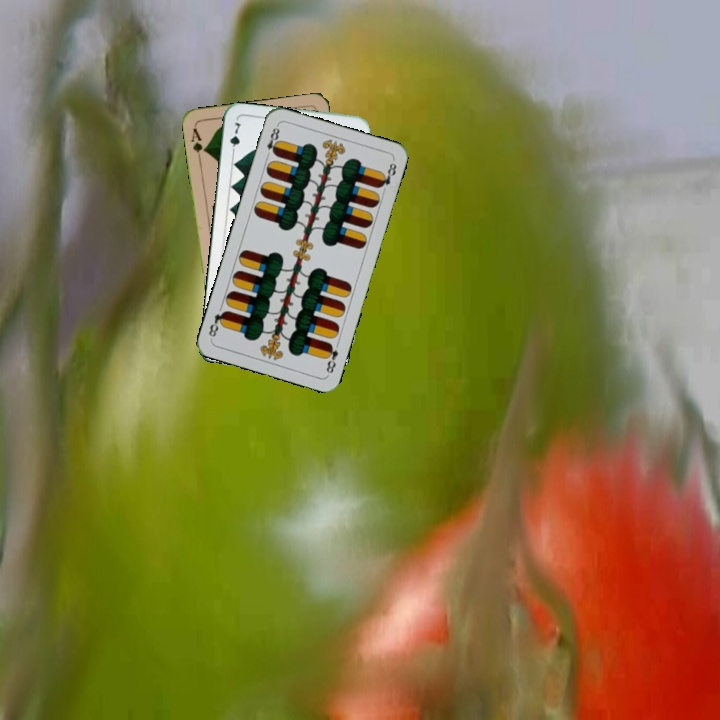E8: (262, 121, 282, 161), (321, 339, 341, 377)
G7: (226, 118, 245, 158)
GA: (187, 124, 208, 163)
